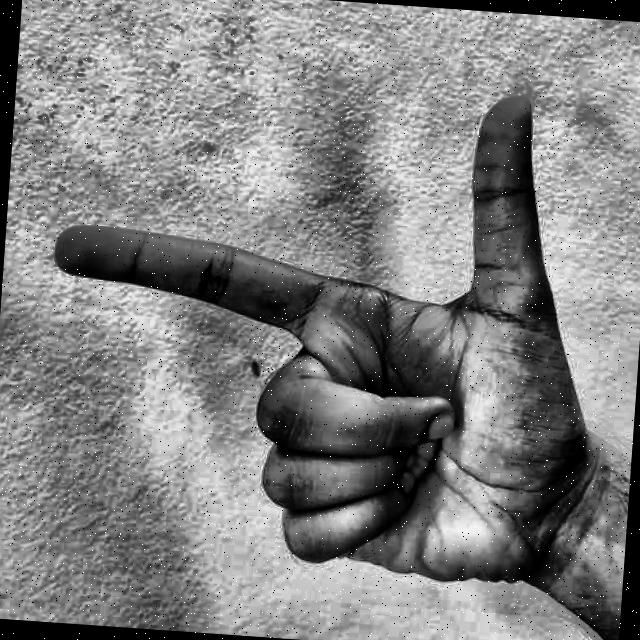Tha: (15, 40, 612, 626)
